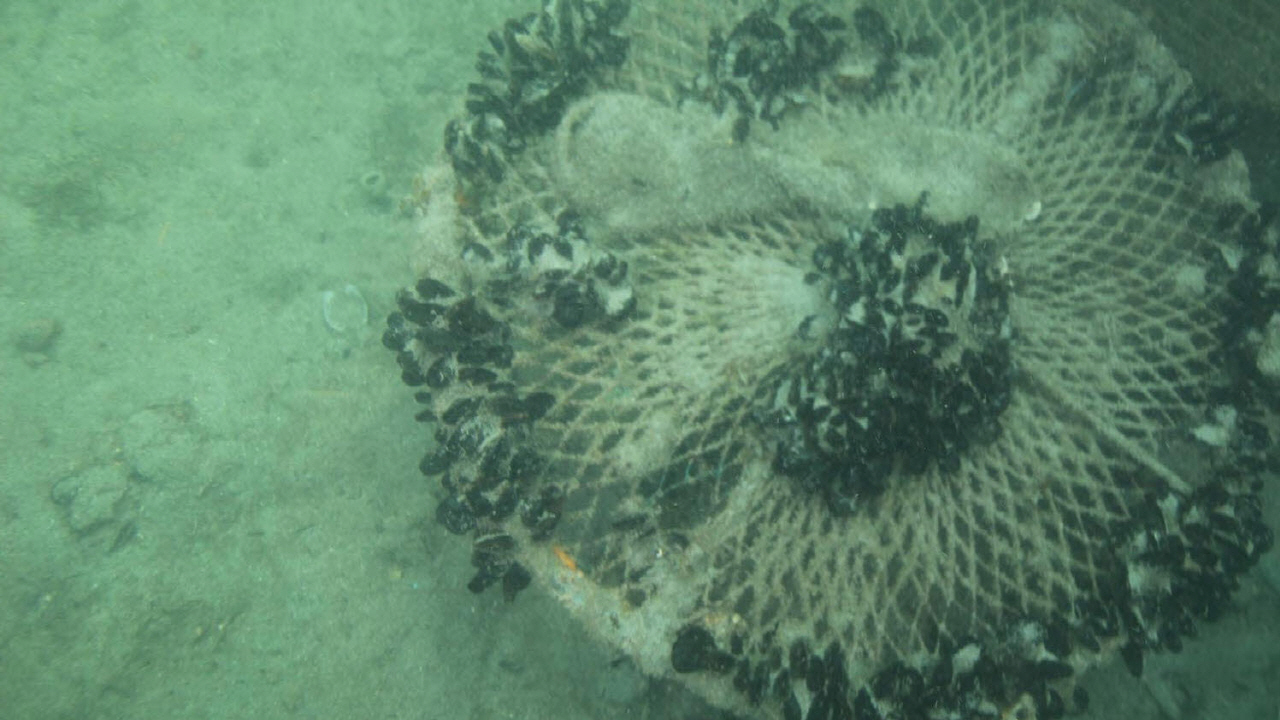circular fish trap: (501, 0, 1251, 720)
